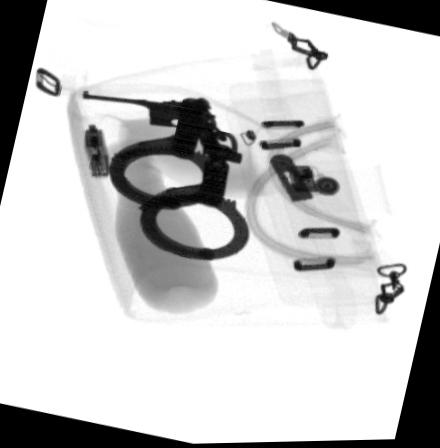Gun: (78, 90, 225, 155)
HandCuffs: (103, 94, 249, 261)
